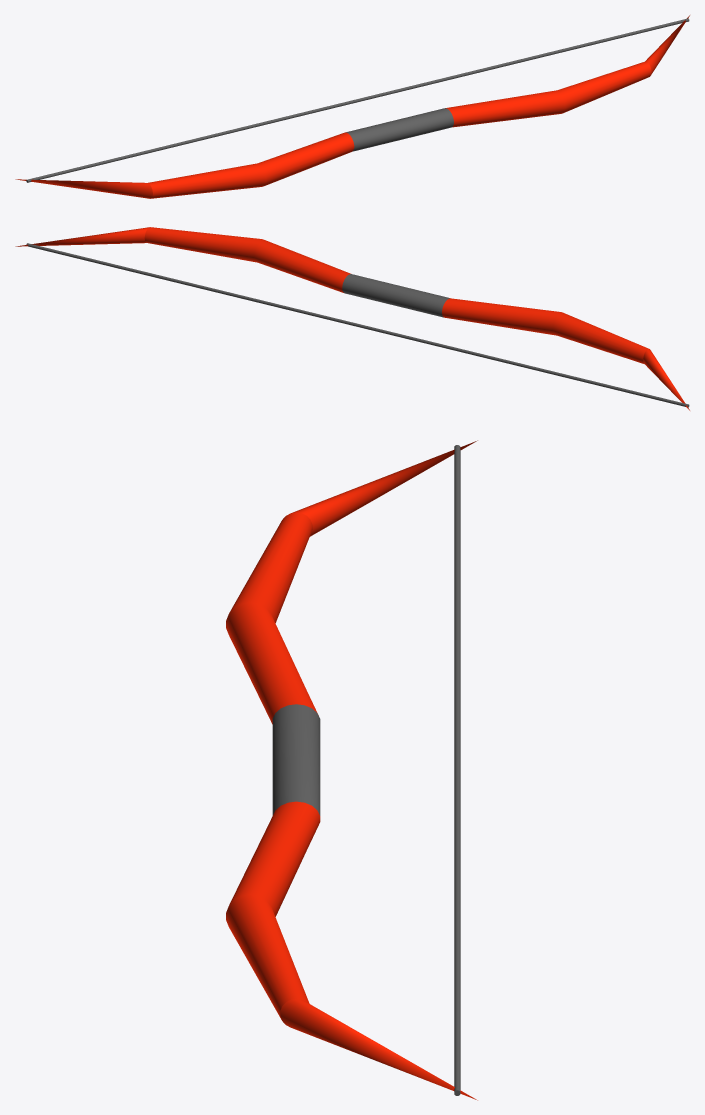
File: Arch.FBX
The picture shows the model from 3 angles, top to bottom: view 1: azimuth 30°, elevation 25°; view 2: azimuth 150°, elevation 25°; view 3: azimuth 270°, elevation 25°; orthographic projection. The views are drawn at different scales.
Visible parts, largest first — view 1: Cylinder001, Cylinder002; view 2: Cylinder001, Cylinder002; view 3: Cylinder001, Cylinder002.
Part boxes in pixels (x1,y1,x2,y2): Cylinder001: [15, 15, 689, 198]; Cylinder002: [26, 18, 689, 182]; Cylinder001: [15, 227, 689, 410]; Cylinder002: [26, 243, 689, 407]; Cylinder001: [226, 440, 477, 1100]; Cylinder002: [454, 445, 460, 1095].
Bounding box in the file's own units: 124 × 3.83 × 20.04.
